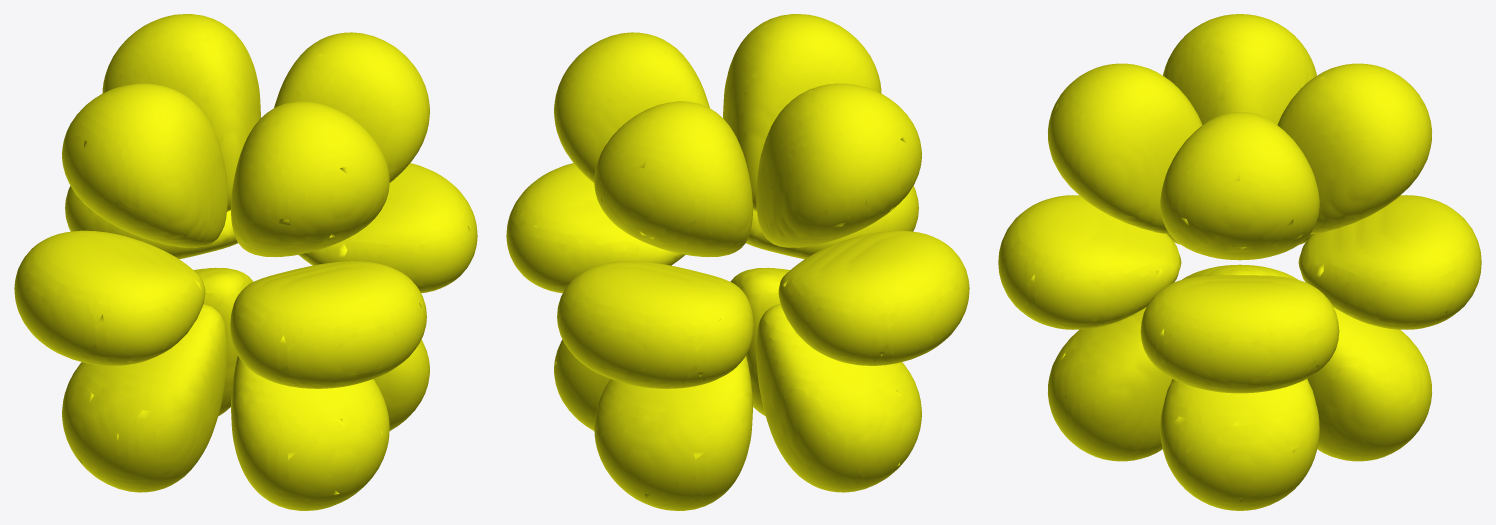
The model's file is orb_n=5_ l=4 _m=2.fbx.
3 views of the same model, side by side, from view 1: azimuth 30°, elevation 25°; view 2: azimuth 150°, elevation 25°; view 3: azimuth 270°, elevation 25° (orthographic). The views are drawn at different scales.
Visible parts, largest first — view 1: orb_n=5_ l=4 _m=2; view 2: orb_n=5_ l=4 _m=2; view 3: orb_n=5_ l=4 _m=2.
Part boxes in pixels (x1,y1,x2,y2): orb_n=5_ l=4 _m=2: (14, 14, 477, 510); orb_n=5_ l=4 _m=2: (506, 14, 969, 510); orb_n=5_ l=4 _m=2: (998, 14, 1481, 510).
Bounding box in the file's own units: 9329 × 8201 × 9329.
